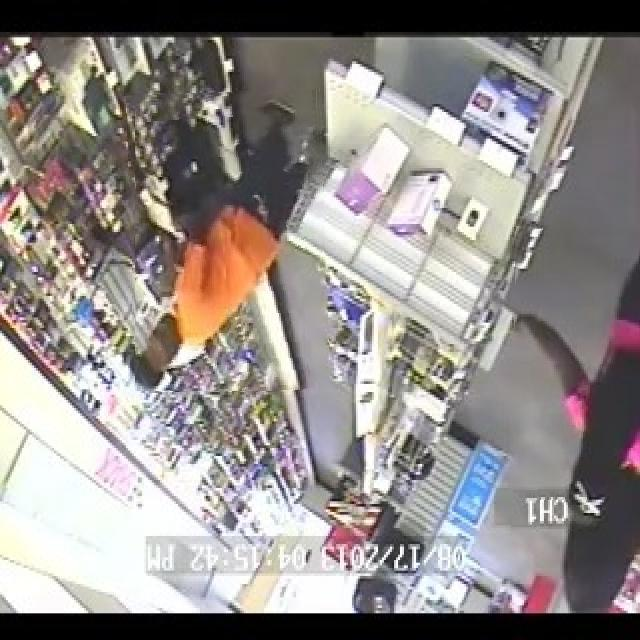Normal: (135, 90, 321, 391), (511, 224, 639, 533)
